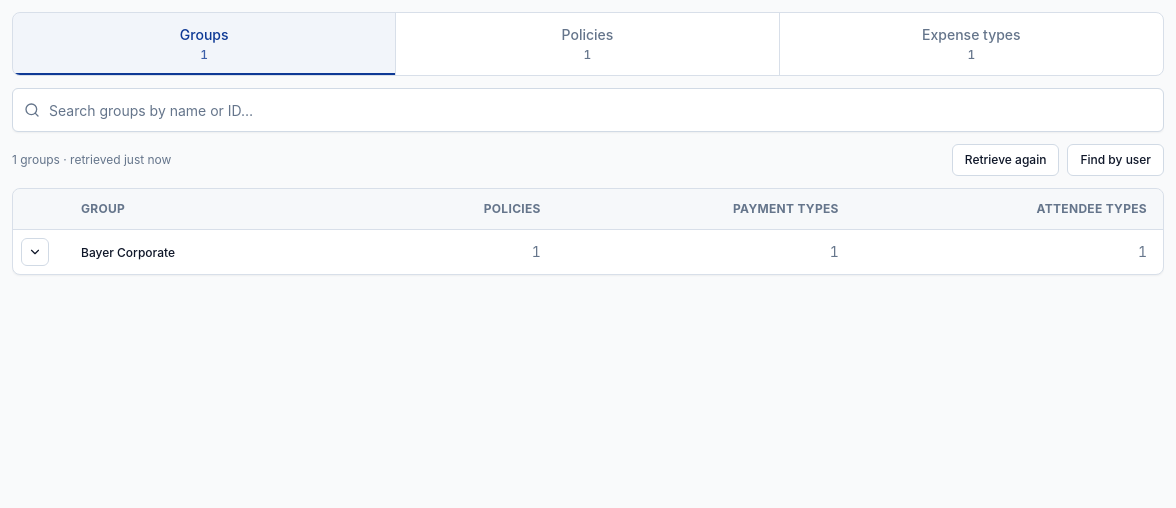
Scenario: ExpenseGroupsView inspection › defers user lookup and exposes explicit group inspection
Click the button "Find by user".
click(1116, 160)  # box [1067,144,1164,176]
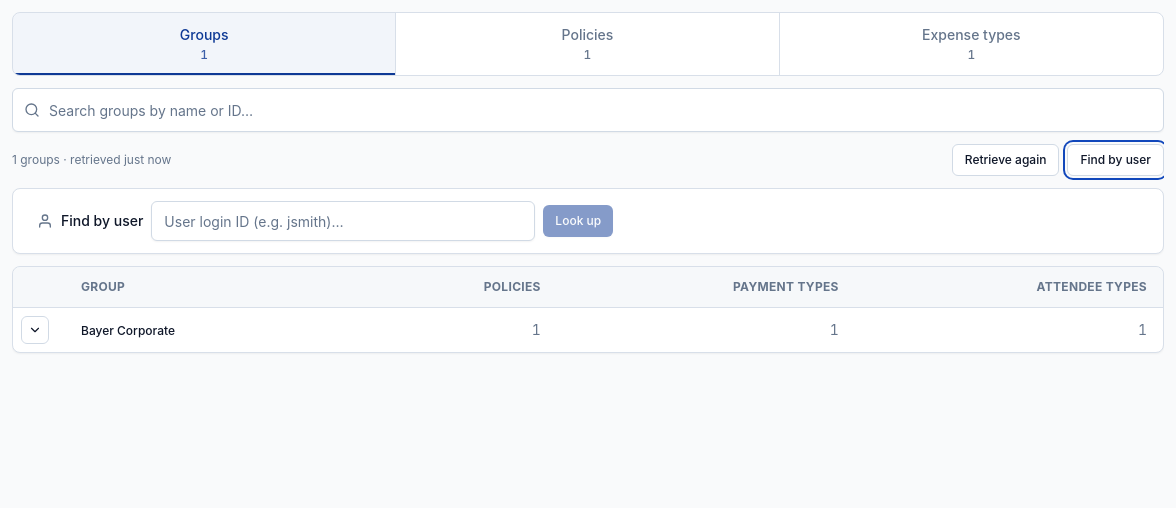
Expected: the field labelled "Find by user" is shown, [151,201,535,241]
Click the button named "inspect".
click(35, 330)  # box [21,316,49,344]
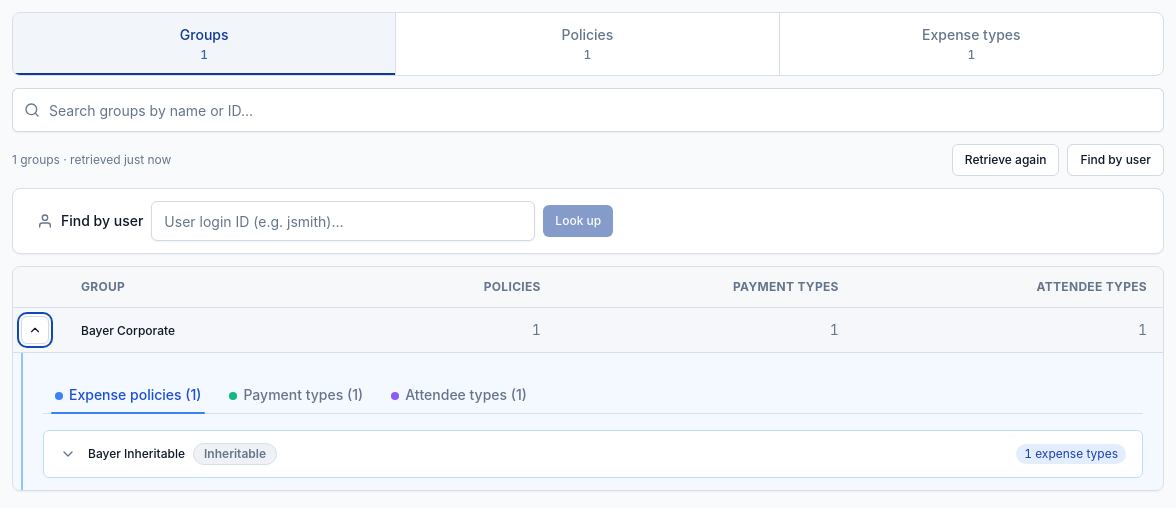
Expected: the button named "inspect" is expanded, [21,316,49,344]
Expected: the tab "Expense policies (1)" is shown, [43,377,214,413]
Expected: the tab "Payment types (1)" is shown, [218,377,375,413]
